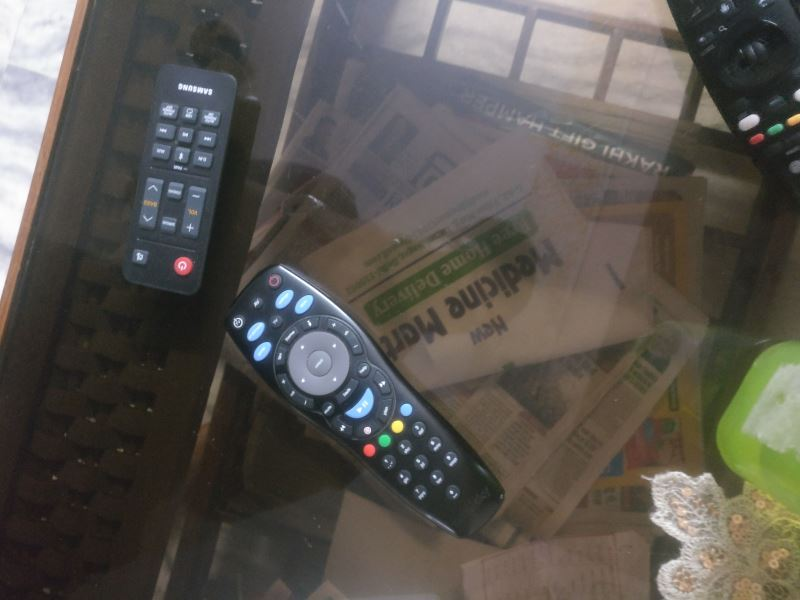tv remote: (226, 262, 504, 540), (121, 65, 237, 296)
